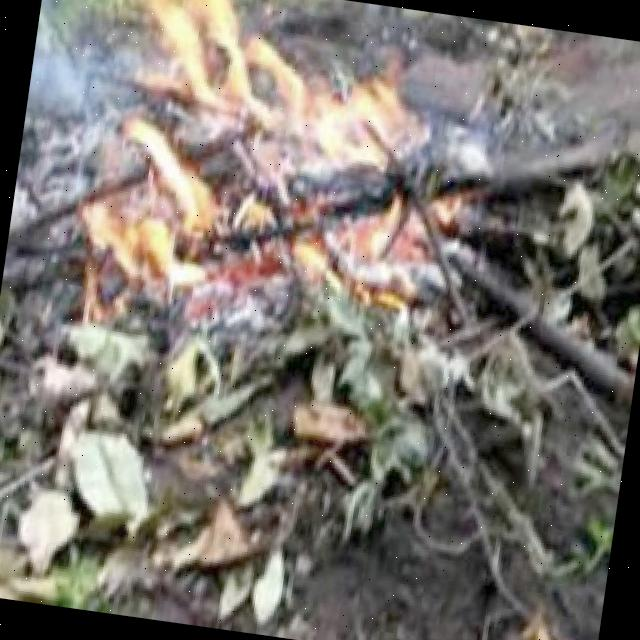fire: (111, 0, 421, 179), (84, 110, 282, 341), (268, 178, 446, 318)
